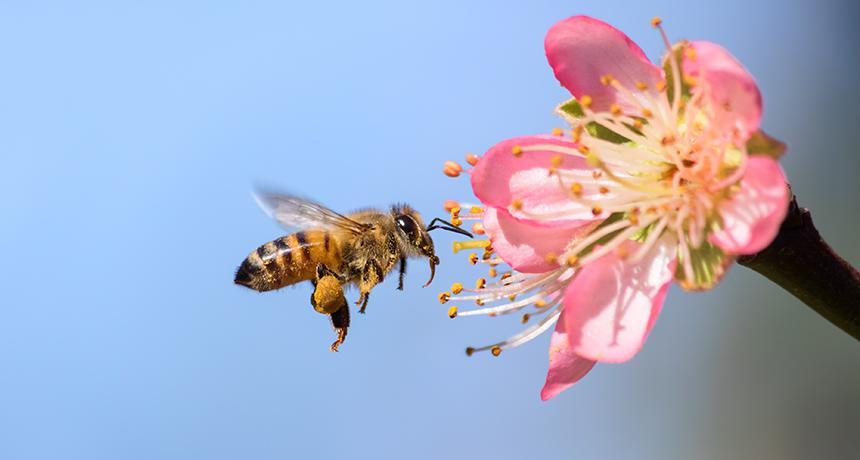bee: (235, 193, 444, 350)
